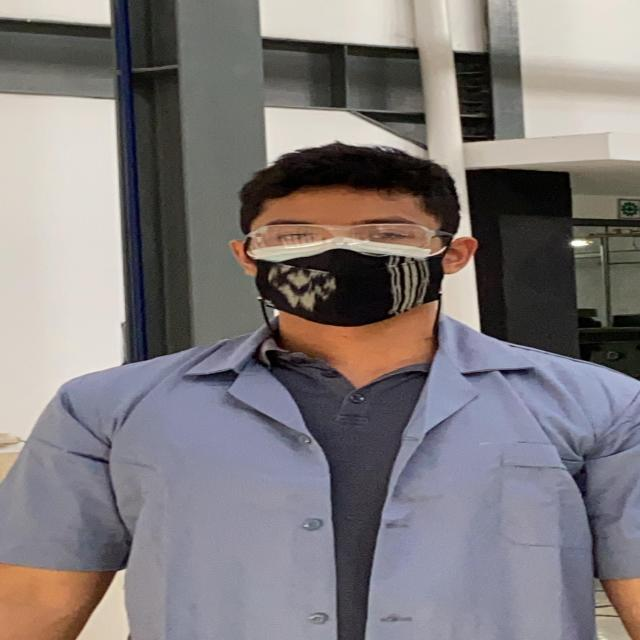glasses: (230, 210, 461, 258)
